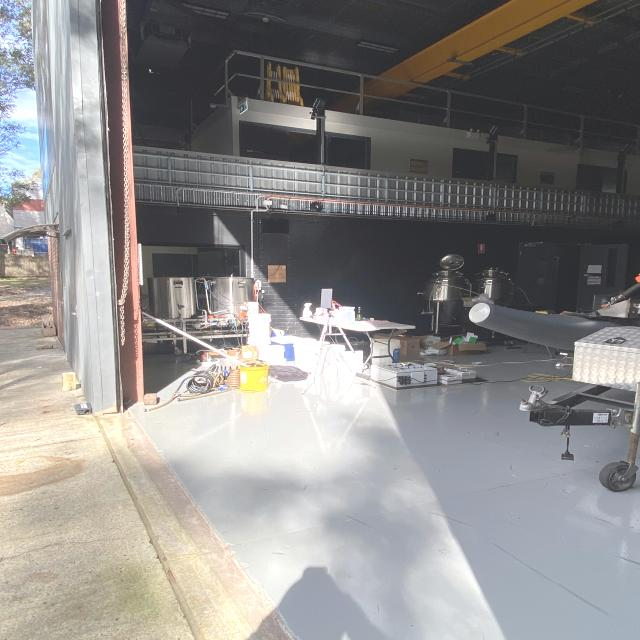matrix: (318, 284, 336, 313)
